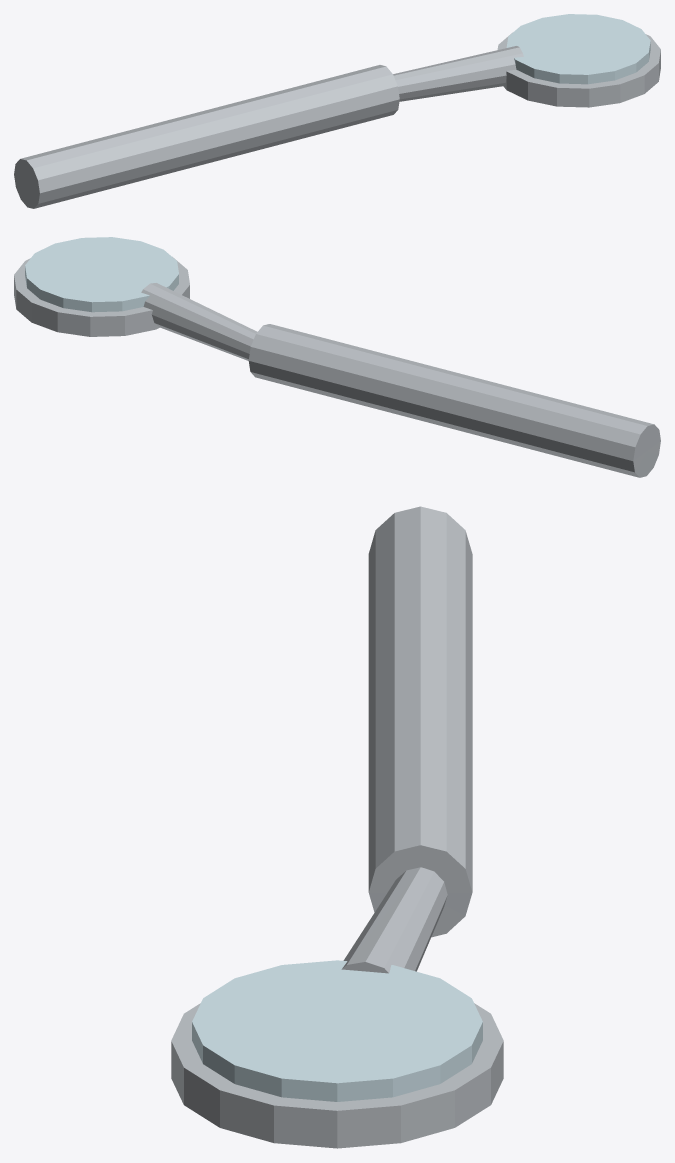
Rendered from espejo.obj.
3 renders of one model, top to bottom at view 1: azimuth 30°, elevation 25°; view 2: azimuth 150°, elevation 25°; view 3: azimuth 270°, elevation 25°, orthographic. The views are drawn at different scales.
Parts seen in each view (by area): view 1: pieza_0, pieza_2, pieza_1; view 2: pieza_0, pieza_2, pieza_1; view 3: pieza_0, pieza_2, pieza_1.
Part boxes in pixels (bbox=[...]): pieza_0: bbox=[14, 46, 523, 208]; pieza_2: bbox=[506, 14, 650, 84]; pieza_1: bbox=[497, 32, 660, 107]; pieza_0: bbox=[141, 283, 660, 477]; pieza_2: bbox=[25, 237, 178, 312]; pieza_1: bbox=[14, 256, 189, 336]; pieza_0: bbox=[341, 506, 472, 973]; pieza_2: bbox=[192, 960, 482, 1101]; pieza_1: bbox=[171, 1003, 503, 1148].
Size of the model in its own units: 0.2011 by 0.017 by 0.048.
